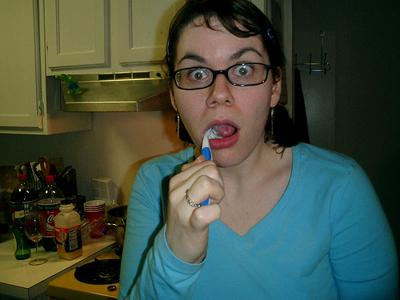person: (116, 2, 400, 300)
